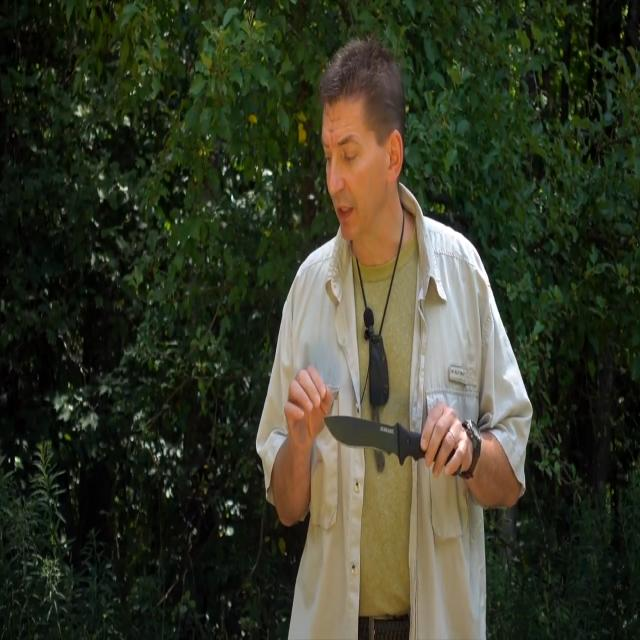knife: (324, 407, 424, 472)
